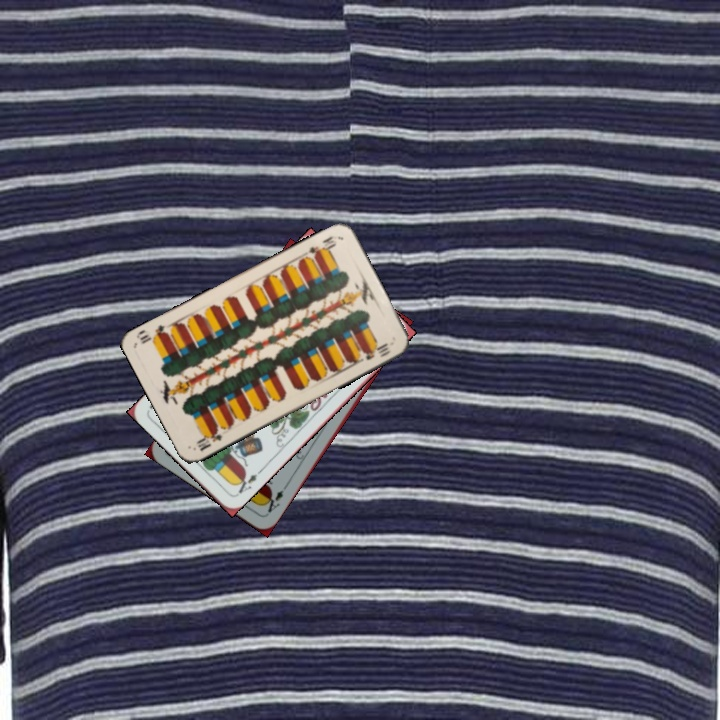E10: (302, 231, 340, 262), (192, 425, 225, 454)
EA: (260, 481, 290, 517), (231, 470, 260, 496)
